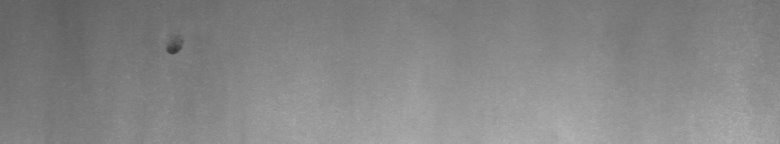fi: (160, 36, 188, 60)
